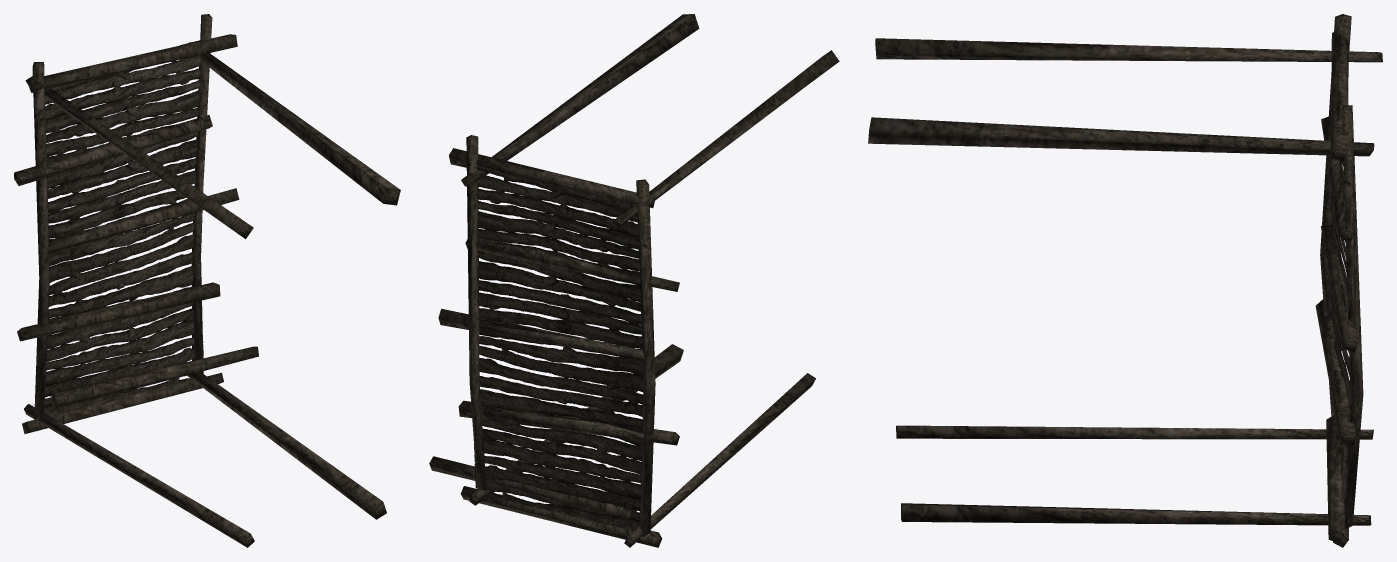
File: MEP_Walk_02.fbx
3 views of the same model, side by side, from view 1: azimuth 30°, elevation 25°; view 2: azimuth 150°, elevation 25°; view 3: azimuth 270°, elevation 25° (orthographic). The views are drawn at different scales.
Visible parts, largest first — view 1: MEP_Walk_02; view 2: MEP_Walk_02; view 3: MEP_Walk_02.
Boxes of the visible parts, x1=… form: MEP_Walk_02: x1=14, y1=14, x2=400, y2=547; MEP_Walk_02: x1=429, y1=14, x2=839, y2=547; MEP_Walk_02: x1=868, y1=14, x2=1382, y2=547.
Bounding box in the file's own units: 3.83 × 5.57 × 5.94.
